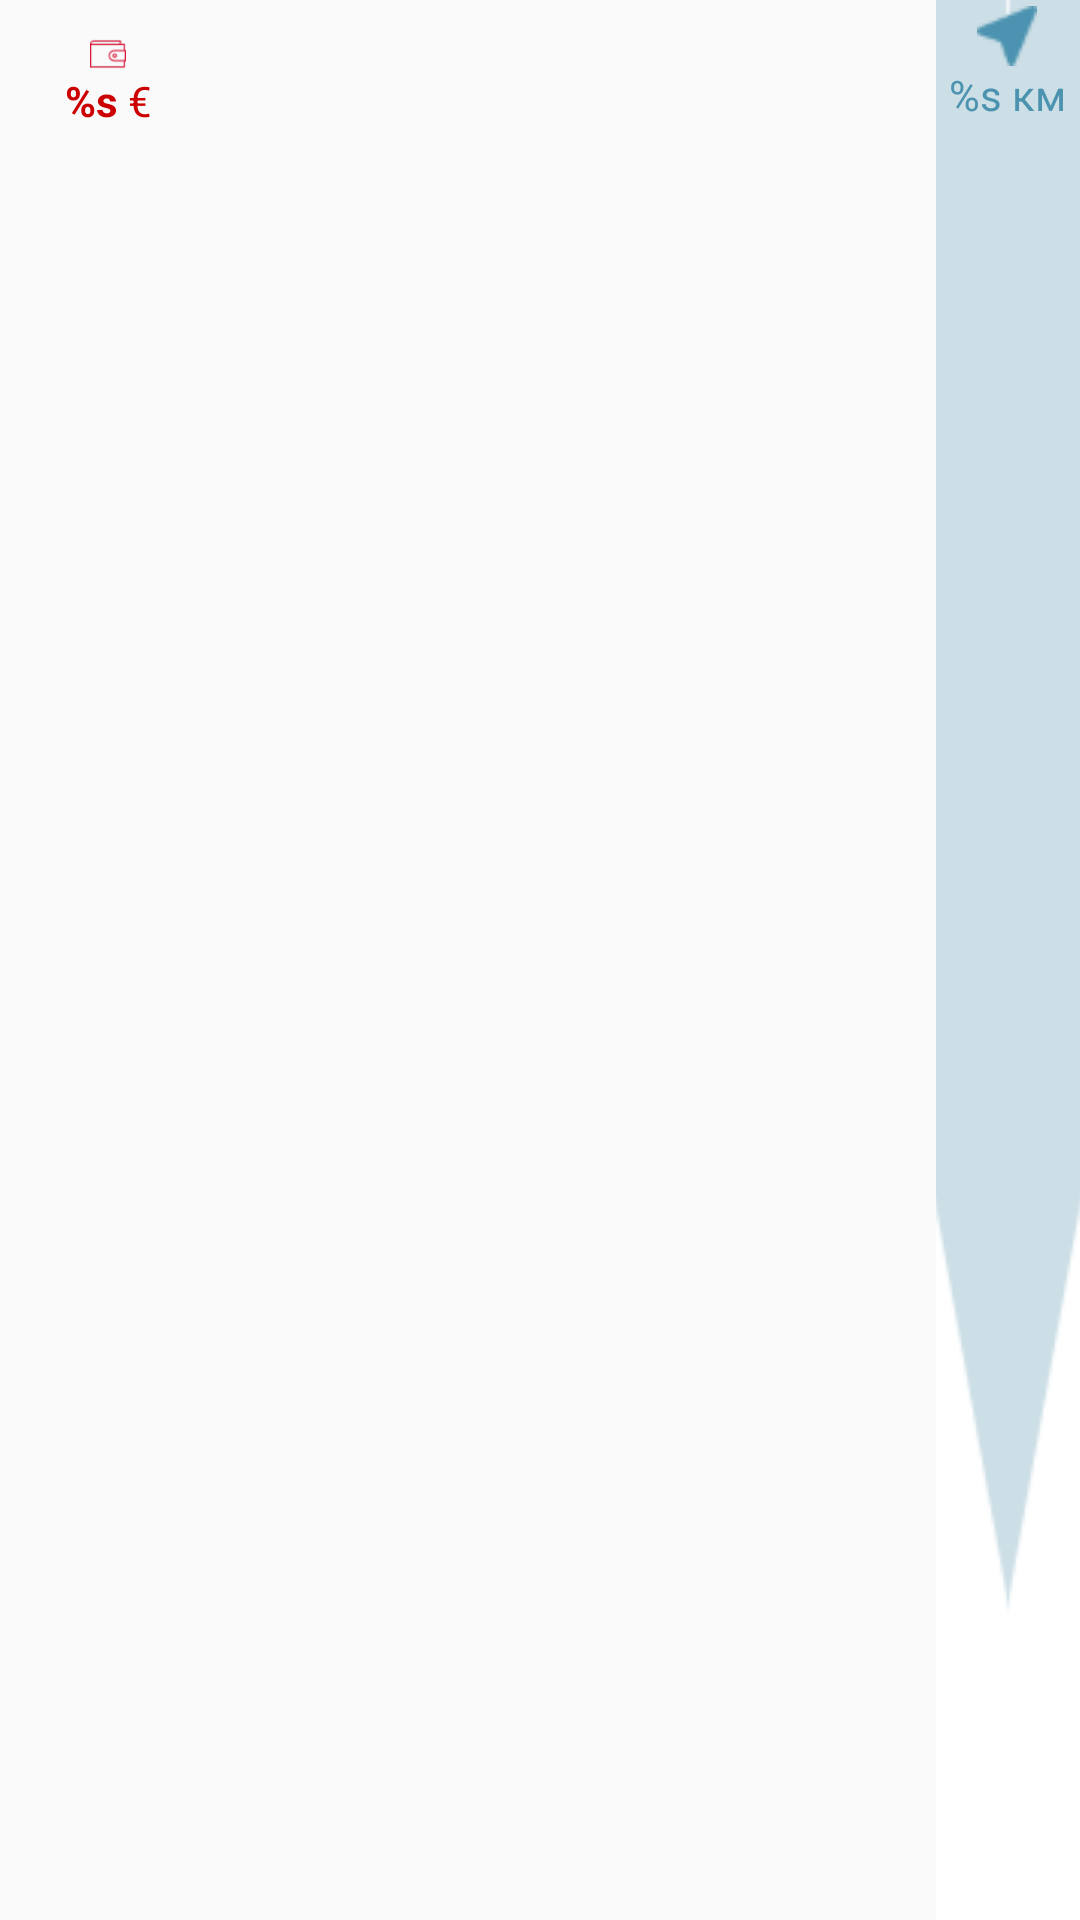

Named icons in this screenshot (1080px×1920px) and their bounding boxes, (x1, y1, x2, y2):
wallet: (90, 40, 126, 68)
